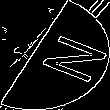N_NW: (14, 26, 96, 84)
